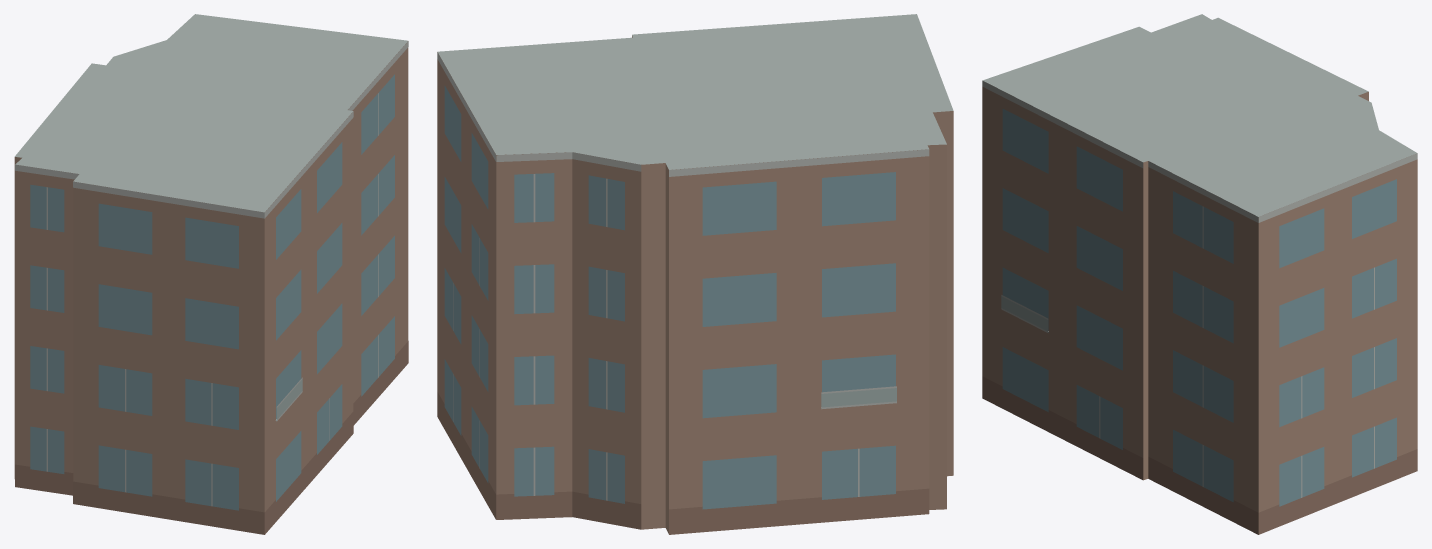
File: survey-upis-32506487.glb
3 views of the same model, side by side, from view 1: azimuth 30°, elevation 25°; view 2: azimuth 150°, elevation 25°; view 3: azimuth 270°, elevation 25° (orthographic). The views are drawn at different scales.
Visible parts, largest first — view 1: survey-upis-32506487.tmp; view 2: survey-upis-32506487.tmp; view 3: survey-upis-32506487.tmp.
Boxes of the visible parts, bbox=[...] form: survey-upis-32506487.tmp: bbox=[14, 14, 408, 534]; survey-upis-32506487.tmp: bbox=[437, 14, 953, 534]; survey-upis-32506487.tmp: bbox=[982, 14, 1417, 534].
Size of the model in its own units: 17.4 by 12.7 by 15.76.
